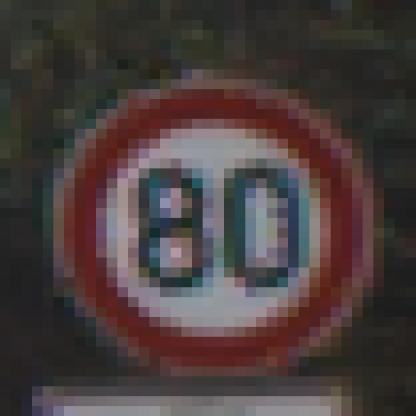Speed Limit -80-: (74, 92, 364, 347)
